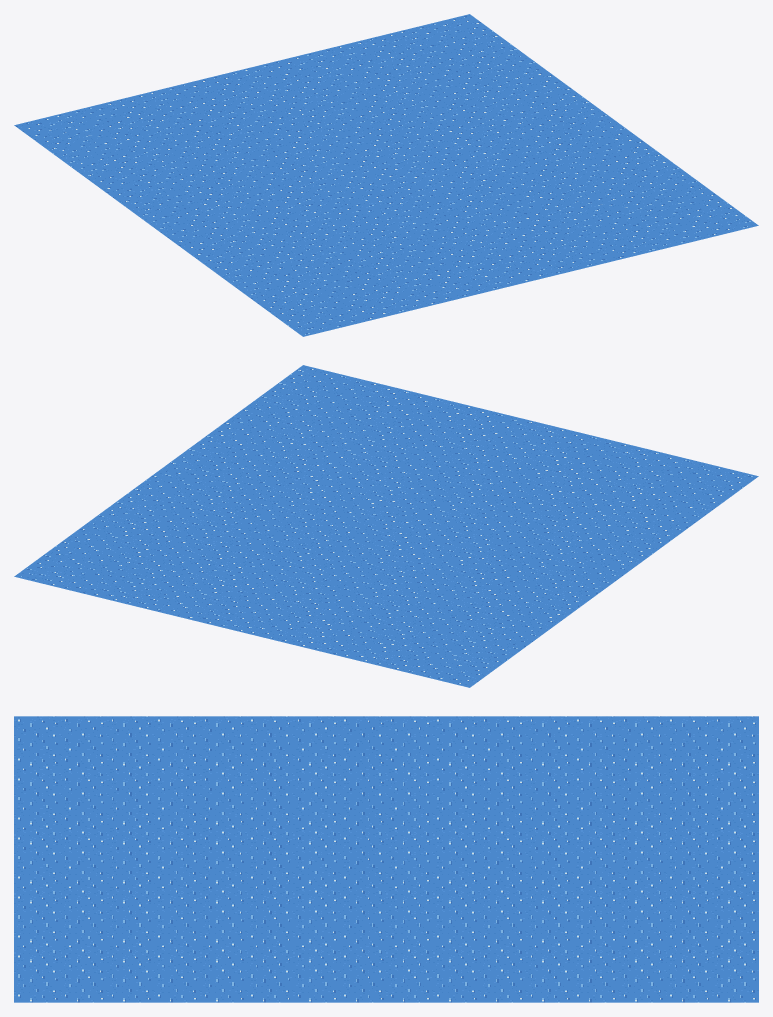
Rendered from port_water.obj.
The picture shows the model from 3 angles, top to bottom: view 1: azimuth 30°, elevation 25°; view 2: azimuth 150°, elevation 25°; view 3: azimuth 270°, elevation 25°; orthographic projection. The views are drawn at different scales.
Bounding box in the file's own units: 466 × 0.3 × 512.
2 materials, 2 textured.
